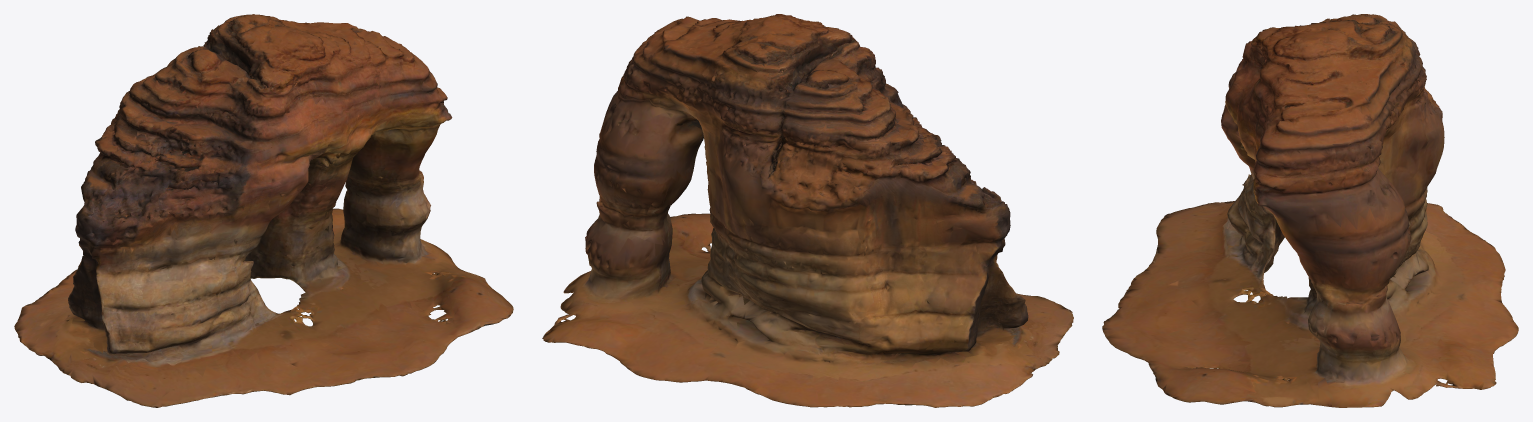
The model's file is Elephant_Rock_Formati.glb.
3 renders of one model, left to right at view 1: azimuth 30°, elevation 25°; view 2: azimuth 150°, elevation 25°; view 3: azimuth 270°, elevation 25°, orthographic. The views are drawn at different scales.
Parts seen in each view (by area): view 1: Elephant_Rock_Formati; view 2: Elephant_Rock_Formati; view 3: Elephant_Rock_Formati.
Part boxes in pixels (<box>): Elephant_Rock_Formati: <box>14,14,513,407</box>; Elephant_Rock_Formati: <box>542,14,1073,407</box>; Elephant_Rock_Formati: <box>1102,14,1518,407</box>.
Bounding box in the file's own units: 1.9 × 1.2 × 1.55.
1 material, 1 textured.
